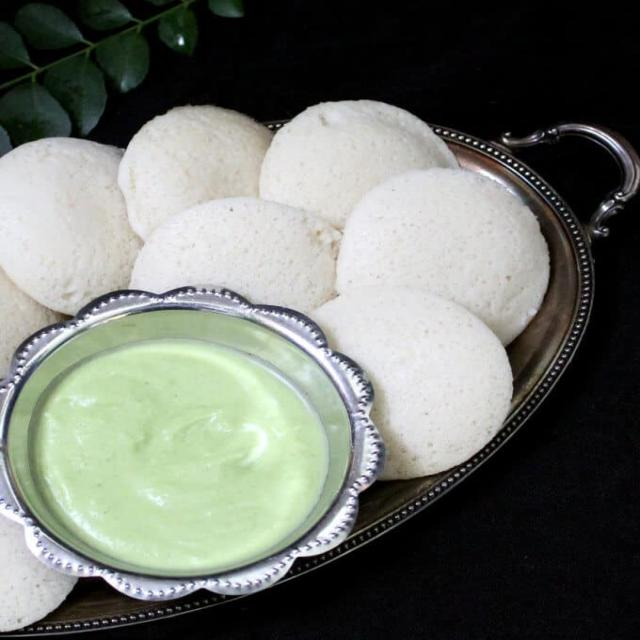IDLI: (335, 163, 550, 348), (315, 289, 520, 483), (261, 100, 455, 229), (136, 198, 343, 310), (5, 145, 143, 313), (128, 104, 271, 227)
